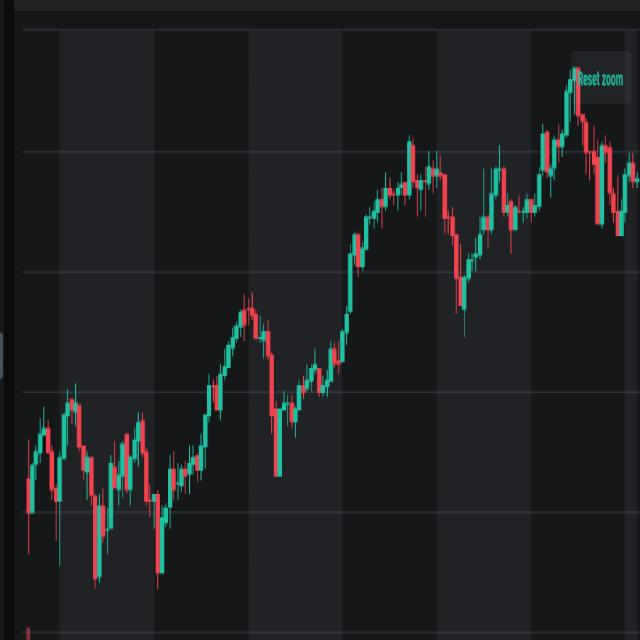Rising-Wedge: (446, 64, 584, 355)
